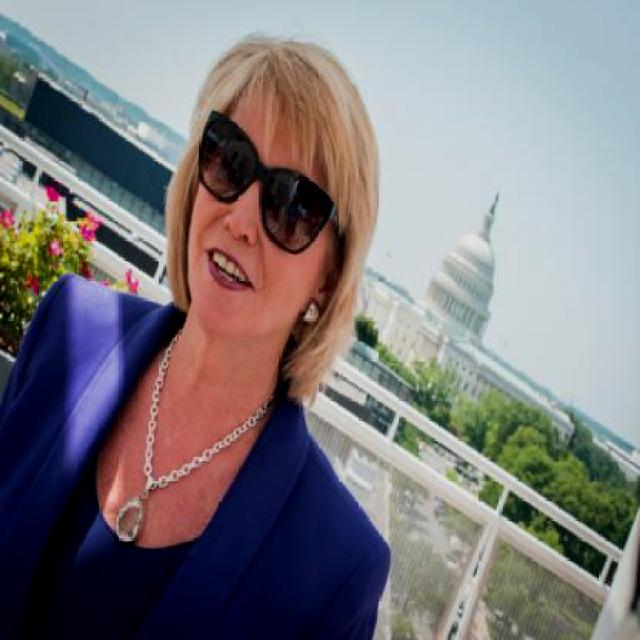face_nomask: (160, 112, 358, 317)
glasses: (188, 123, 340, 260)
head_nohelmet: (185, 16, 388, 124)
person: (1, 27, 445, 640)
